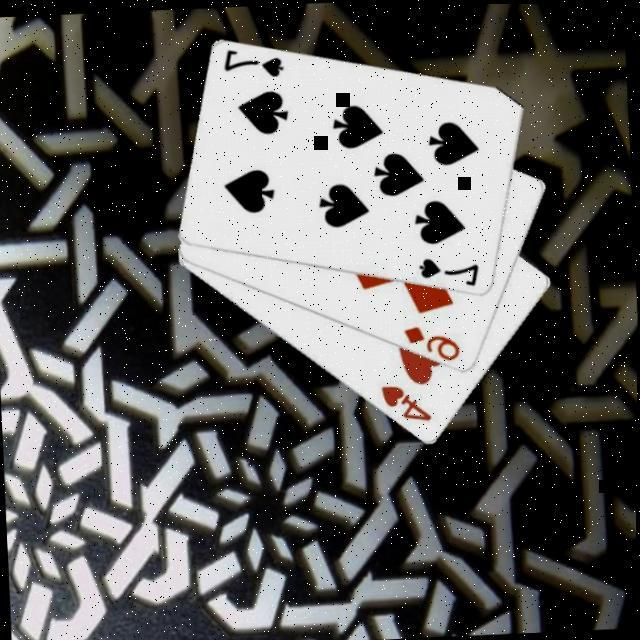4H: (377, 378, 435, 425)
7S: (415, 250, 483, 289), (219, 41, 287, 80)
9D: (399, 319, 463, 364)
